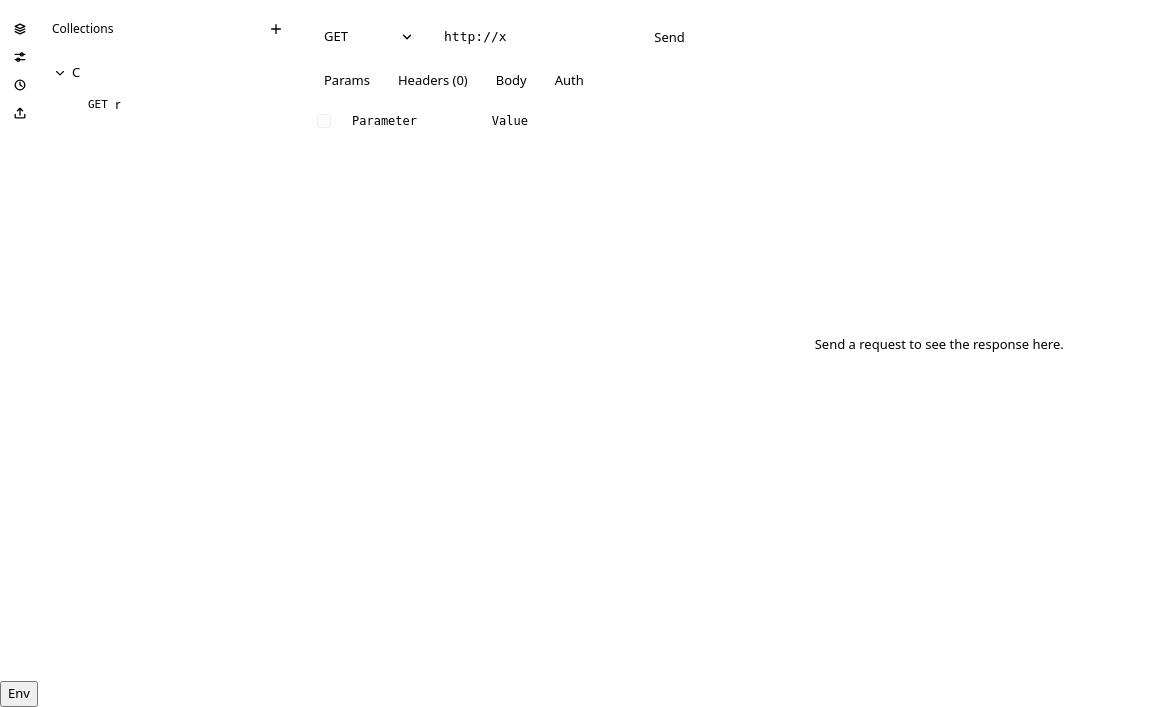
Test: shell › ignores Cmd+S while a Popover is open
This screenshot has width=1152, height=707.
(page scrolled)
What coordinates should you click on to do the following:
click the button "Env"
I would click on:
 (19, 694)
Its box is [0, 681, 38, 706].
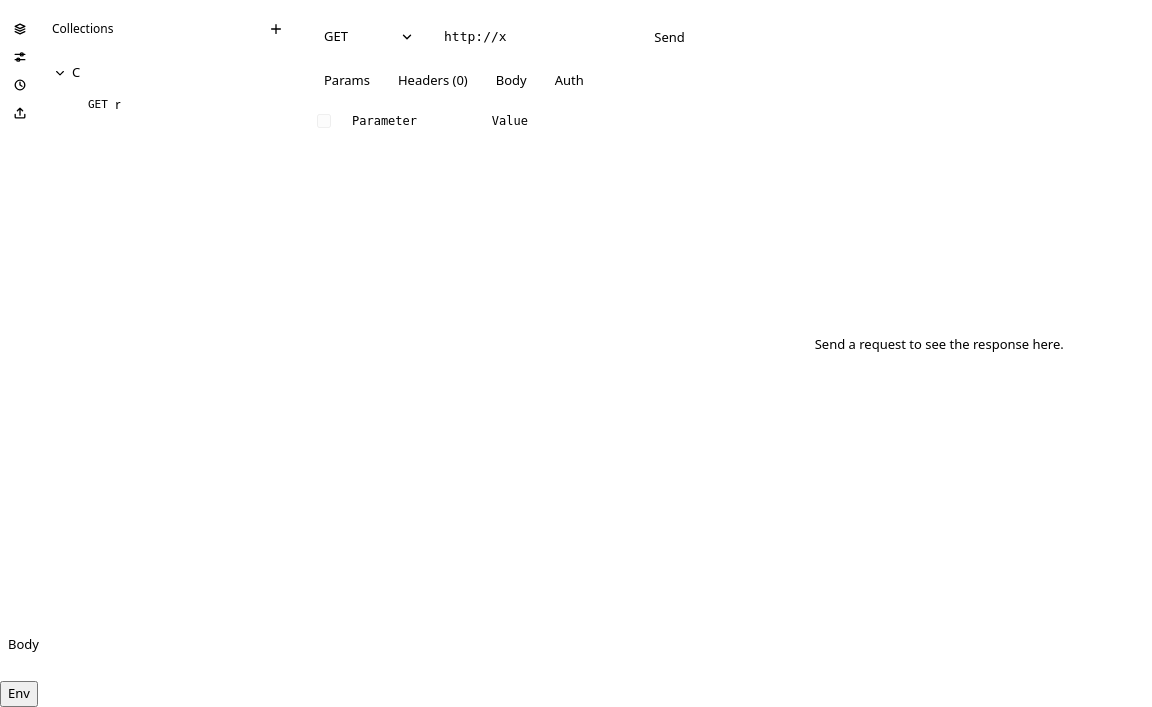
Now the dialog named "Environments" is shown, box [8, 635, 39, 653]
